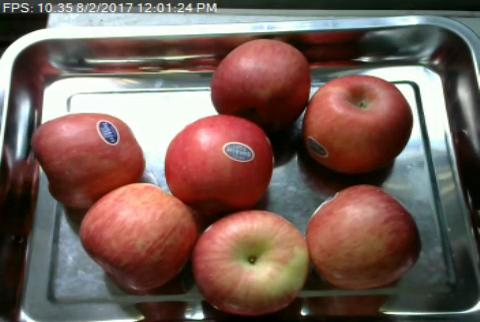apple: (79, 185, 196, 293), (192, 211, 308, 313), (29, 115, 149, 207), (310, 186, 418, 287), (303, 76, 413, 174), (170, 116, 269, 204), (211, 40, 309, 122)
